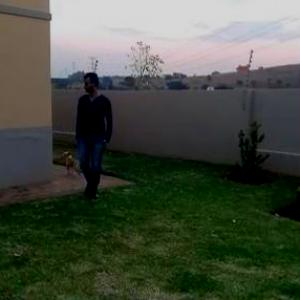follow: (64, 66, 108, 209)
